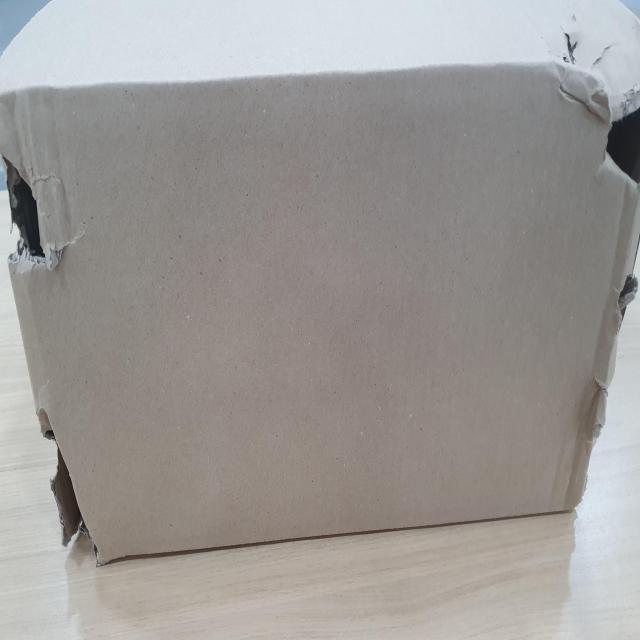damaged: (36, 407, 103, 552), (5, 146, 76, 268), (585, 76, 640, 214)
